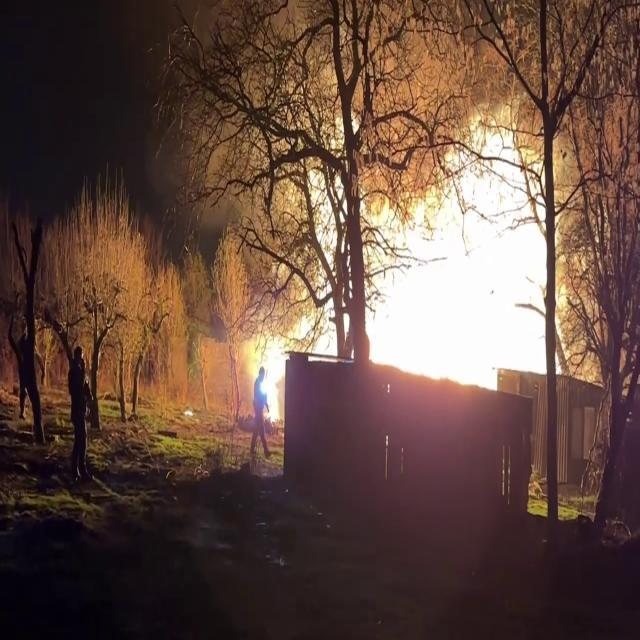Fire: (360, 79, 562, 421), (243, 323, 303, 431)
